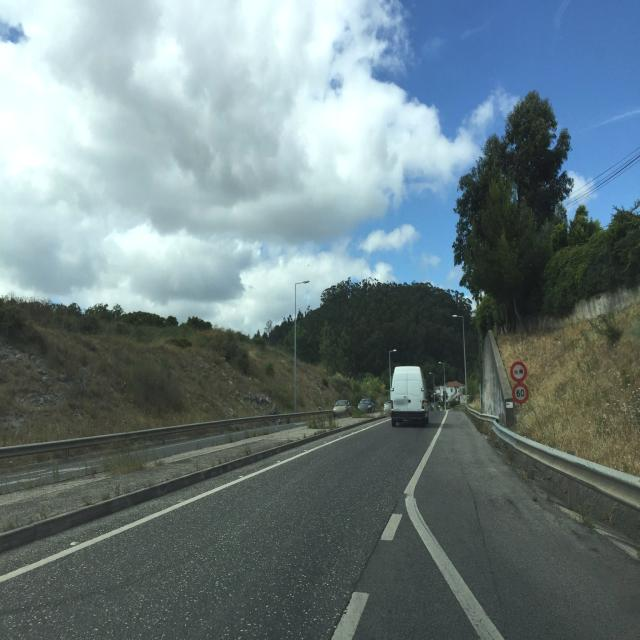car: (389, 364, 430, 428), (332, 398, 353, 418), (357, 397, 376, 413), (383, 399, 392, 411)
